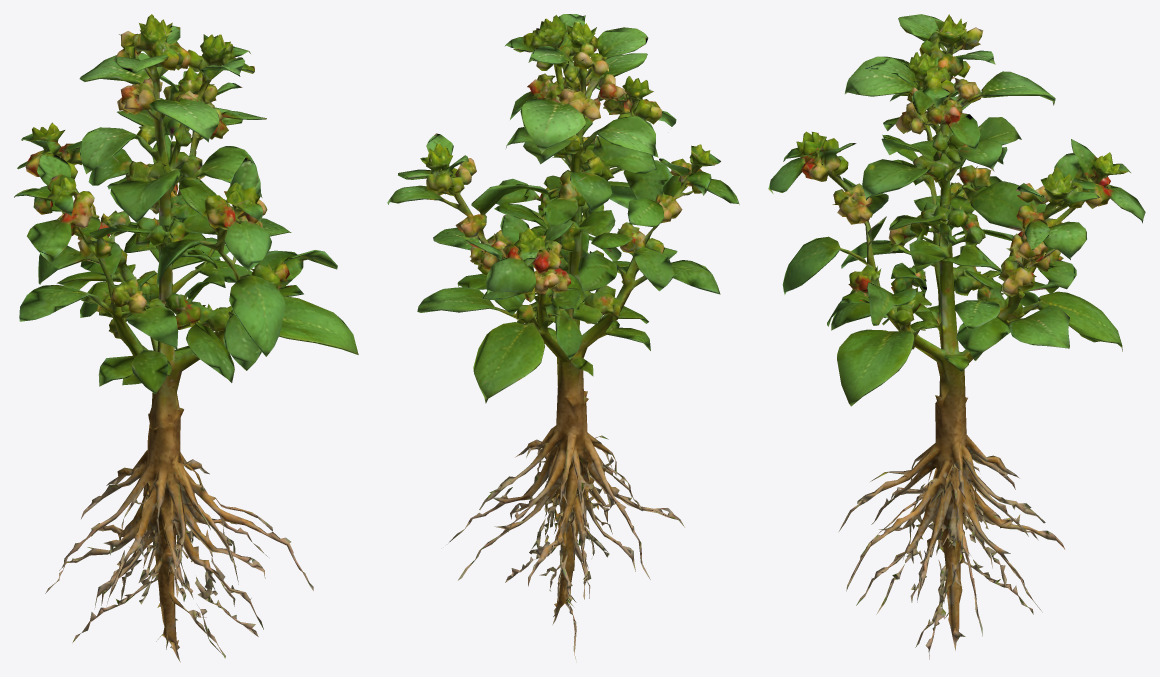
Rendered from ashwagandha.glb.
3 renders of one model, left to right at view 1: azimuth 30°, elevation 25°; view 2: azimuth 150°, elevation 25°; view 3: azimuth 270°, elevation 25°, orthographic. The views are drawn at different scales.
Parts seen in each view (by area): view 1: Mesh1.0; view 2: Mesh1.0; view 3: Mesh1.0.
Boxes of the visible parts, x1=… form: Mesh1.0: x1=14, y1=14, x2=358, y2=662; Mesh1.0: x1=387, y1=14, x2=739, y2=658; Mesh1.0: x1=768, y1=14, x2=1145, y2=659.
Size of the model in its own units: 0.9021 by 1.89 by 1.04.
1 material, 1 textured.
